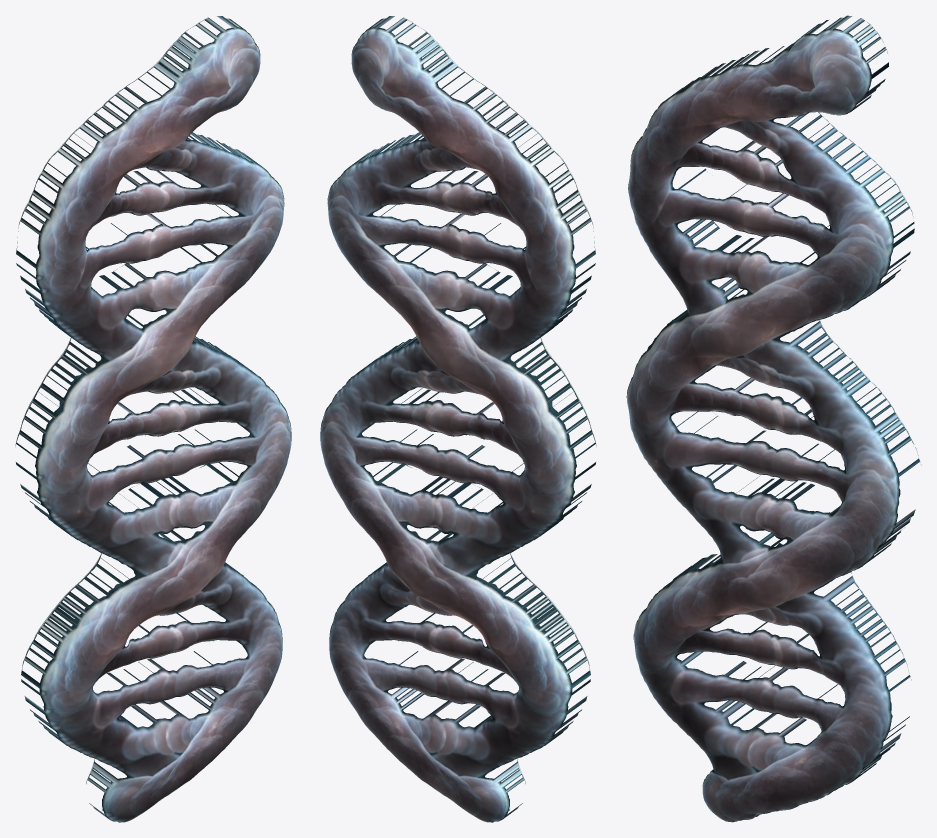
Rendered from image-dna.glb.
The picture shows the model from 3 angles, left to right: view 1: azimuth 30°, elevation 25°; view 2: azimuth 150°, elevation 25°; view 3: azimuth 330°, elevation 25°; orthographic projection. The views are drawn at different scales.
Parts seen in each view (by area): view 1: dna; view 2: dna; view 3: dna.
Part boxes in pixels (x1,y1,x2,y2): dna: (15,16,291,822); dna: (320,16,596,822); dna: (626,15,921,822).
Size of the model in its own units: 0.7066 by 2 by 0.2349.
1 material, 1 textured.
